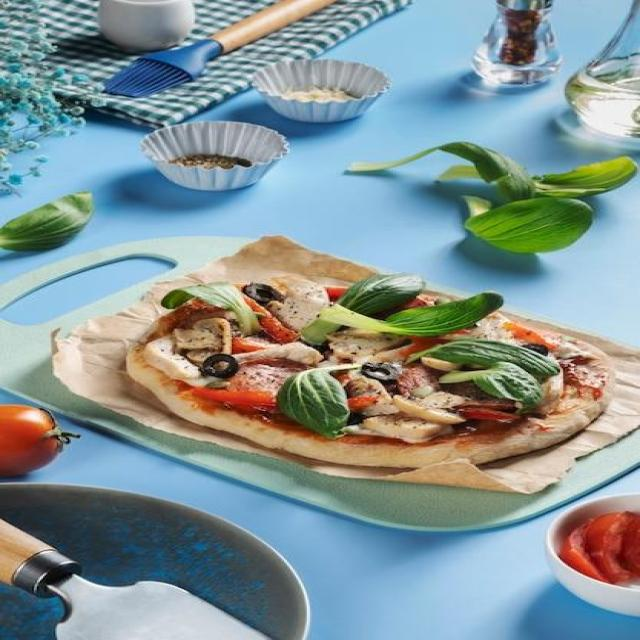basil: (343, 141, 640, 199), (300, 273, 430, 345), (461, 193, 597, 253), (323, 292, 503, 336), (277, 362, 375, 440), (0, 191, 98, 252), (402, 338, 560, 374), (161, 284, 263, 336), (437, 362, 542, 405)
olive: (241, 284, 284, 304), (363, 361, 398, 383), (202, 355, 237, 376), (292, 336, 329, 353), (522, 344, 550, 356), (456, 363, 494, 370), (331, 324, 354, 332)
pizza: (123, 274, 618, 469)
